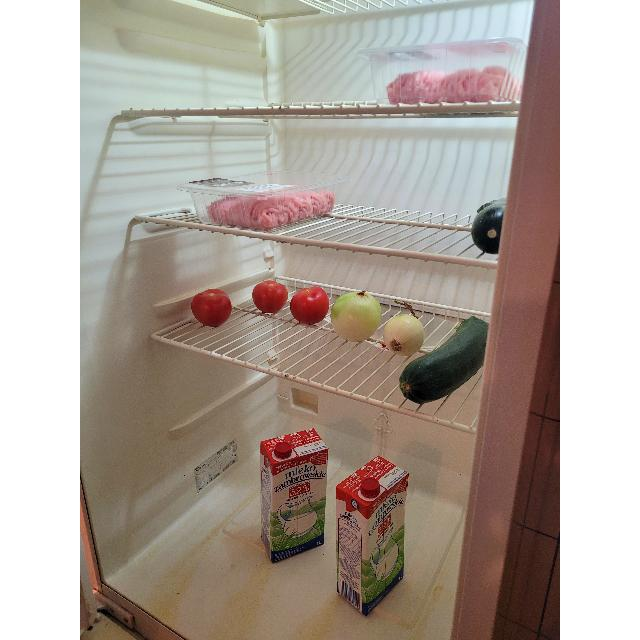meat: (207, 186, 329, 228), (384, 70, 514, 104)
milk: (340, 456, 406, 612), (260, 432, 324, 560)
onion: (331, 289, 384, 339), (383, 311, 423, 355)
tomato: (290, 285, 328, 325), (194, 288, 228, 328), (254, 281, 286, 315)
zucchini: (411, 321, 487, 401), (474, 198, 506, 254)
